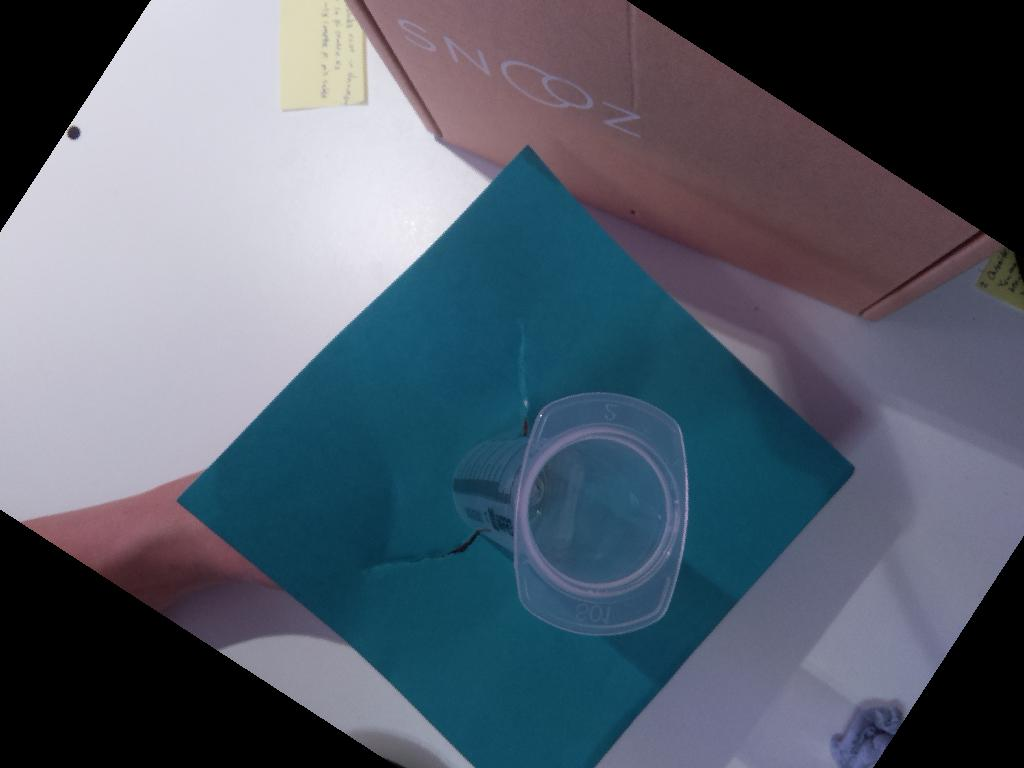clean: (509, 391, 688, 634)
